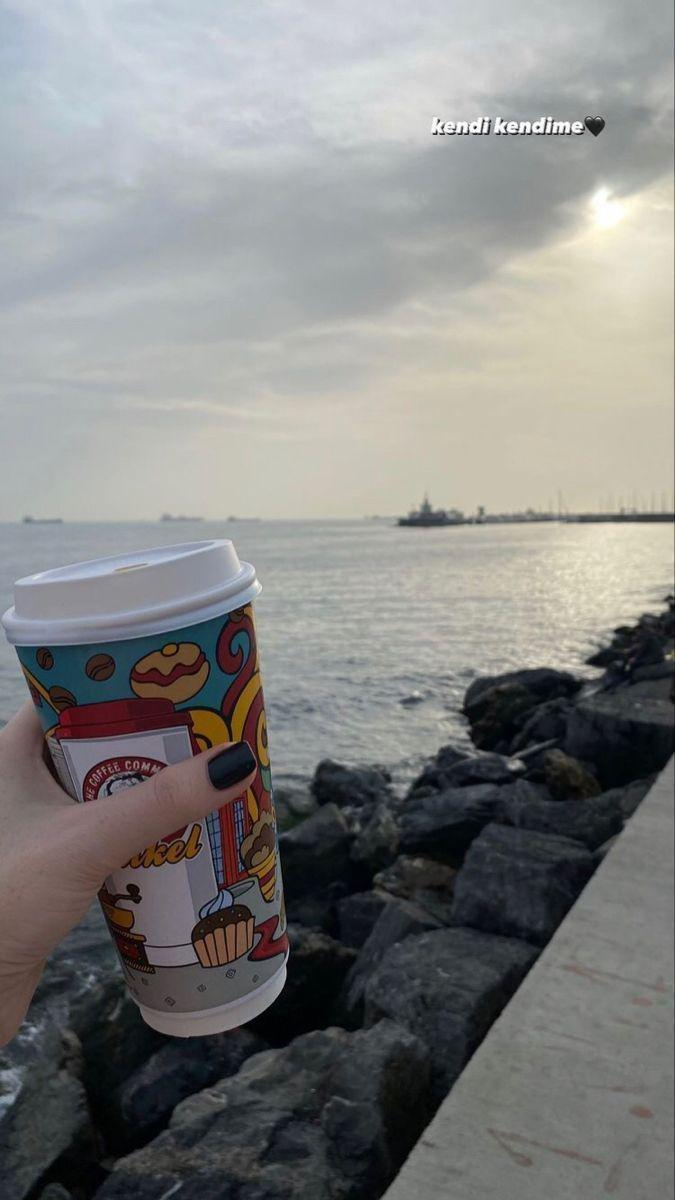cup-disposable: (4, 532, 292, 1035)
